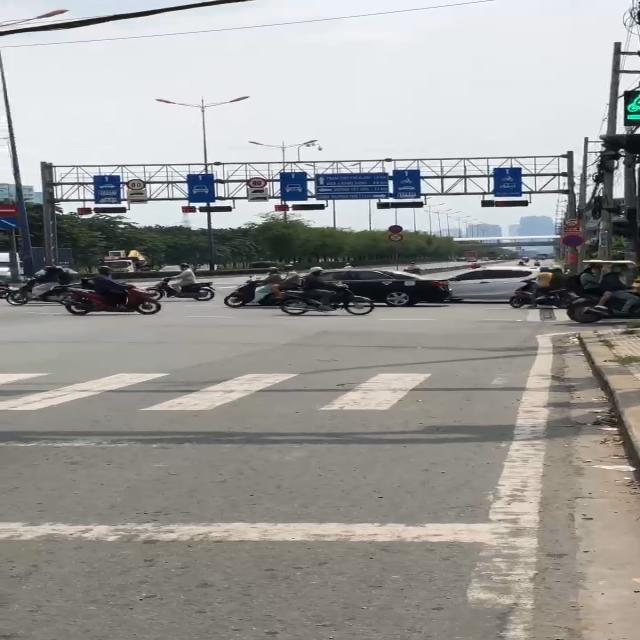Bien bao cam di nguoc chieu: (0, 204, 20, 218)
Bien bao huong phai di vong chuong ngai vat: (0, 217, 20, 230)
Bien bao toc do toi da cho phep: (245, 174, 268, 189), (124, 177, 147, 190)
